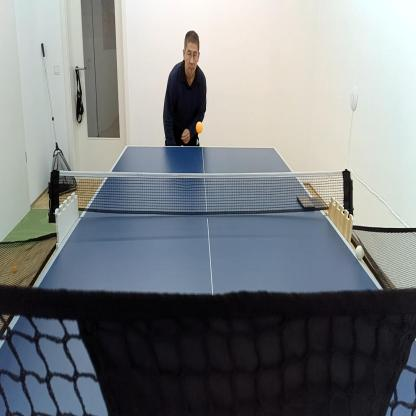Ball: (356, 245, 364, 259), (196, 121, 203, 133)
